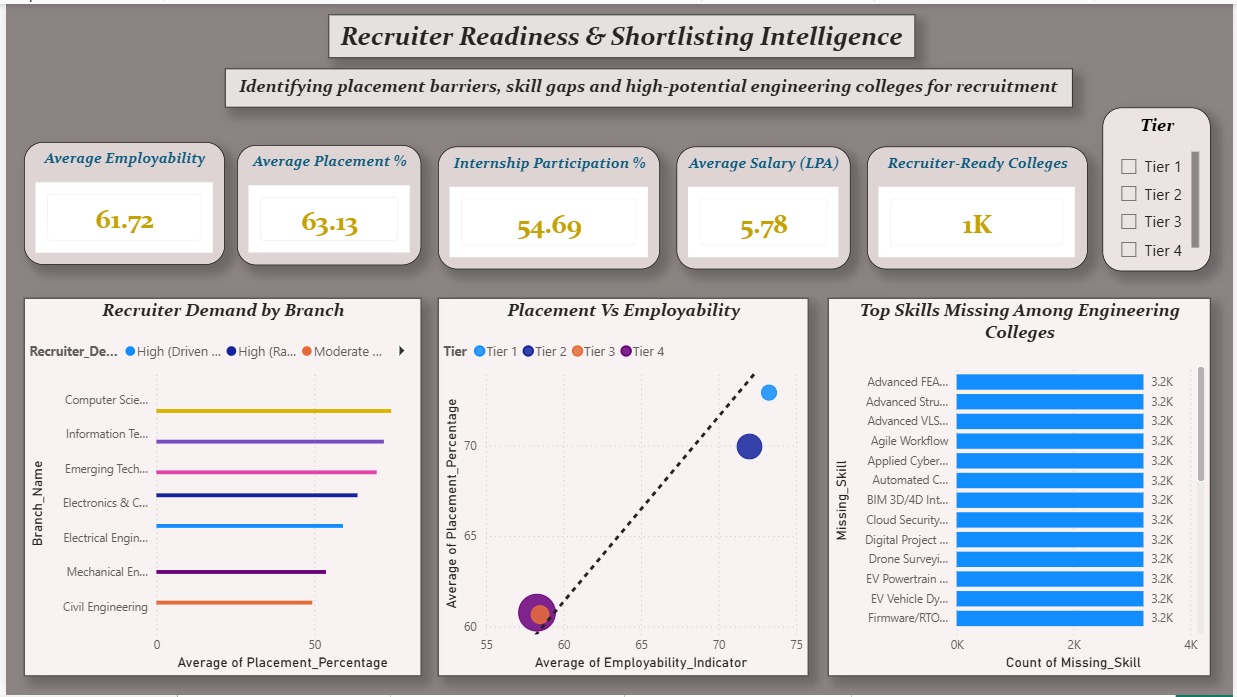

This screenshot's page, from the dashboard's own definition file:
{"tool":"powerbi","page":{"name":"Recruiter Intelligence","canvas":[1280,720],"ordinal":1},"visuals":[{"type":"textbox","box":[336,10.9,611.1,45.3],"z":0},{"type":"textbox","box":[228.2,67.2,883.1,40.6],"z":1000},{"type":"cardVisual","title":"Average Employability","fields":{"Data":["Avg(Sheet1.Employability_Indicator)"]},"box":[18.8,143.8,209.4,128.2],"z":2000},{"type":"cardVisual","title":"Average Placement %","fields":{"Data":["Avg(Sheet1.Placement_Percentage)"]},"box":[240.7,146.9,192.2,125],"z":3000},{"type":"cardVisual","title":"Average Salary (LPA)","fields":{"Data":["Avg(Sheet1.Average_Salary_LPA)"]},"box":[698.7,148.5,181.3,128.2],"z":4000},{"type":"cardVisual","title":"Internship Participation %","fields":{"Data":["Avg(Sheet1.Internship_Participation_Pct)"]},"box":[450.1,148.5,231.3,128.2],"z":5000},{"type":"cardVisual","title":"Recruiter-Ready Colleges","fields":{"Data":["Sheet1.Recruiter Ready Colleges"]},"box":[897.2,148.5,229.8,128.2],"z":6000},{"type":"scatterChart","title":"Placement Vs Employability","fields":{"X":["Avg(Sheet1.Employability_Indicator)"],"Y":["Avg(Sheet1.Placement_Percentage)"],"Series":["Sheet1.Tier"],"Size":["Sum(Sheet1.Average_Salary_LPA)"]},"box":[450.1,306.3,386.1,393.9],"z":7000},{"type":"clusteredBarChart","title":"Recruiter Demand by Branch","fields":{"Category":["Sheet1.Branch_Name"],"Y":["Avg(Sheet1.Placement_Percentage)"],"Series":["Sheet1.Recruiter_Demand"]},"box":[18.8,306.3,414.2,393.9],"z":8000},{"type":"clusteredBarChart","title":"Top Skills Missing Among Engineering Colleges","fields":{"Category":["Skill_Gap.Missing_Skill"],"Y":["CountNonNull(Skill_Gap.Missing_Skill)"]},"box":[856.5,306.3,398.6,393.9],"z":9000},{"type":"slicer","title":"Tier","fields":{"Values":["Skill_Gap.Tier"]},"box":[1142.5,107.8,112.5,170.4],"z":10000}]}

Visuals, with their boxes in screenshot pixels (x1, y1, x2, y2), scaled from the page's 1280x720 canvas onto the 1237x697 screenshot:
textbox: crop(325, 11, 915, 54)
textbox: crop(221, 65, 1074, 104)
"Average Employability" cardVisual: crop(18, 139, 221, 263)
"Average Placement %" cardVisual: crop(233, 142, 418, 263)
"Average Salary (LPA)" cardVisual: crop(675, 144, 850, 268)
"Internship Participation %" cardVisual: crop(435, 144, 659, 268)
"Recruiter-Ready Colleges" cardVisual: crop(867, 144, 1089, 268)
"Placement Vs Employability" scatterChart: crop(435, 297, 808, 678)
"Recruiter Demand by Branch" clusteredBarChart: crop(18, 297, 418, 678)
"Top Skills Missing Among Engineering Colleges" clusteredBarChart: crop(828, 297, 1213, 678)
"Tier" slicer: crop(1104, 104, 1213, 269)
